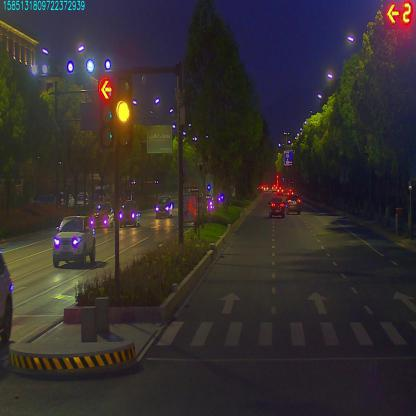traffic-light: (116, 80, 132, 145), (99, 79, 114, 141)
